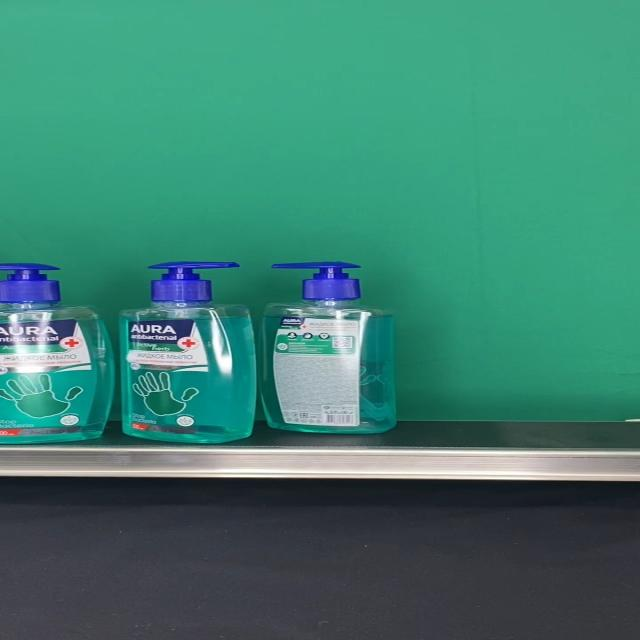Bottle: (117, 260, 255, 444), (258, 261, 397, 434), (0, 263, 115, 445)
Cap: (148, 260, 244, 302), (270, 261, 360, 301), (0, 263, 61, 301)
